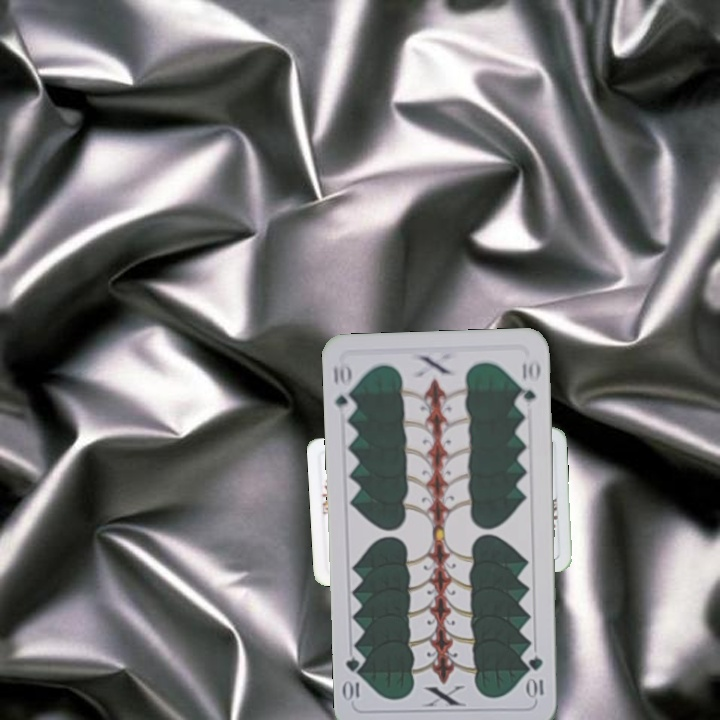G10: (329, 359, 357, 418), (525, 652, 546, 701)
